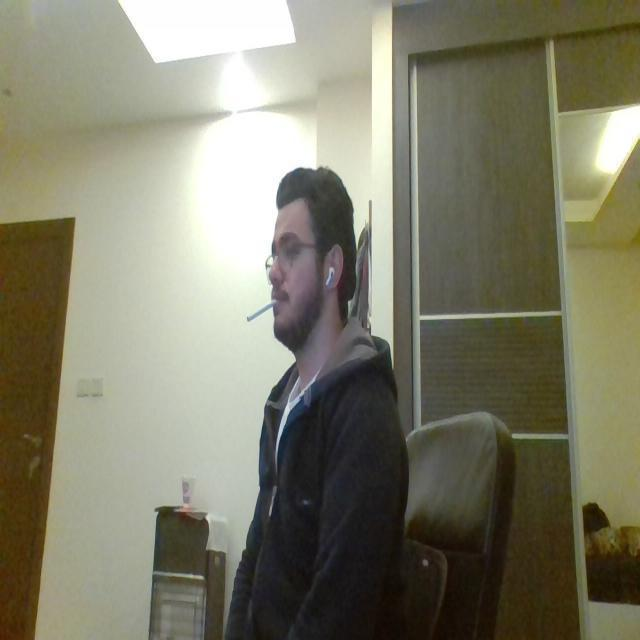smoking: (232, 278, 294, 336)
